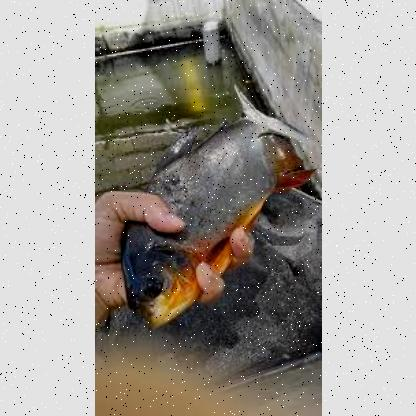ikan-pacu: (123, 85, 303, 329)
